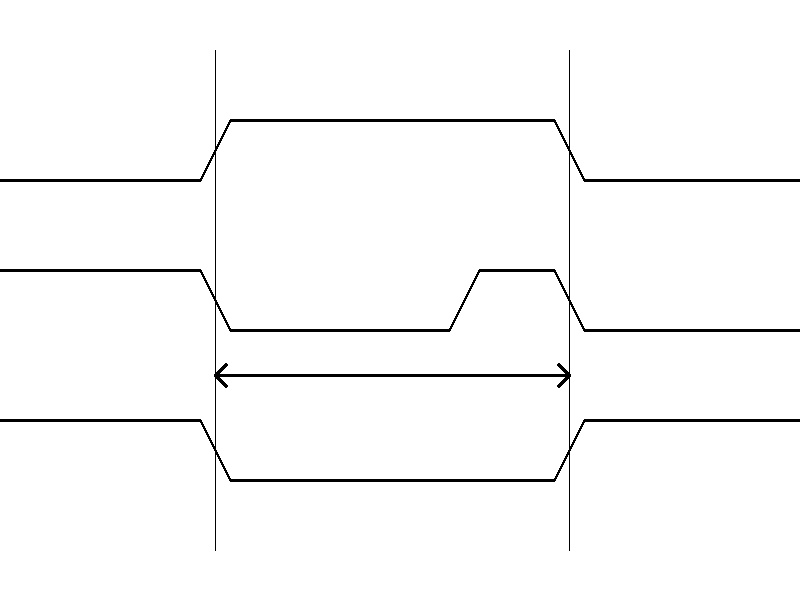double_arrow: (215, 360, 569, 390)
